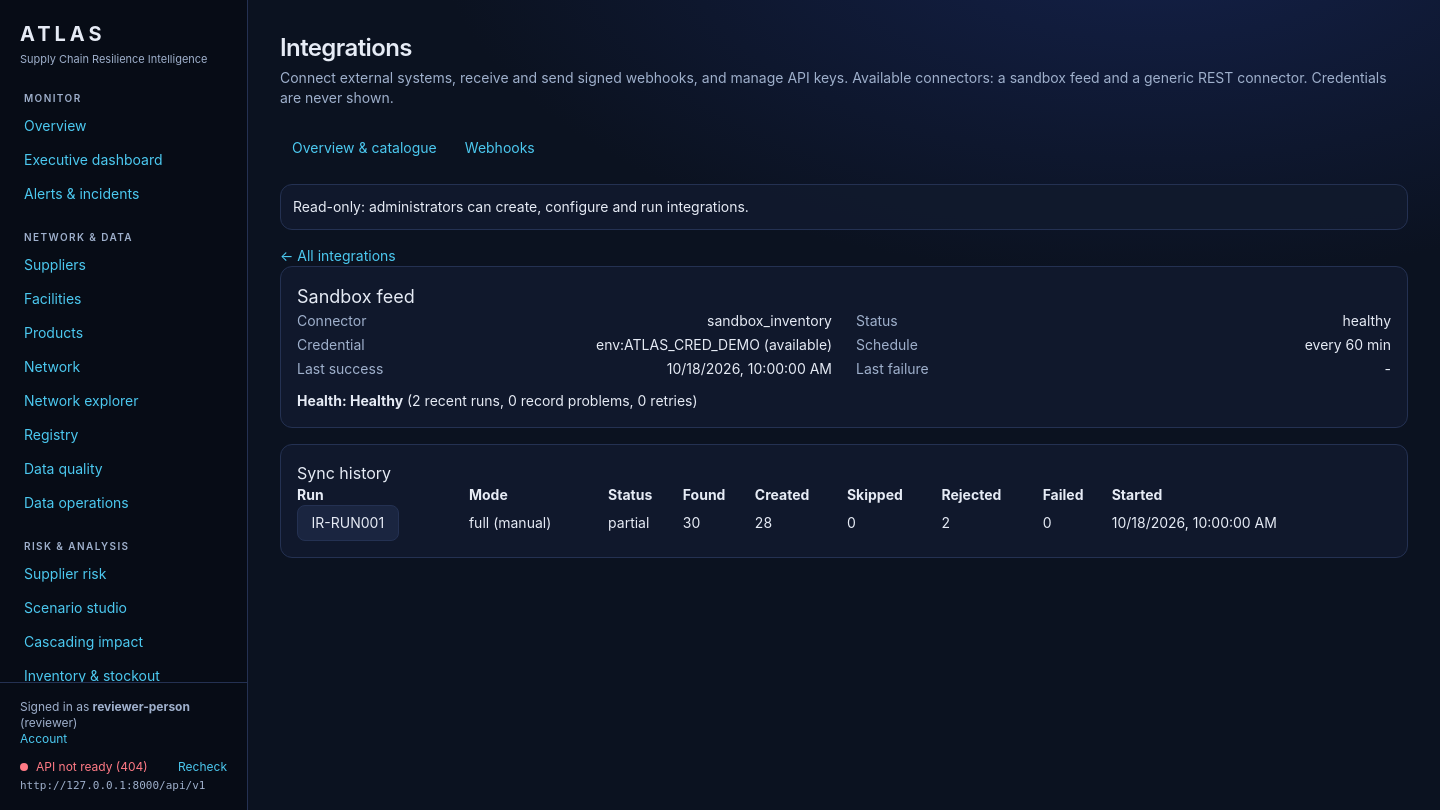
Test case: integration detail and sync history › shows health, history and record-level errors
Expected: the heading "Sandbox feed" is shown, left=297, top=286, right=415, bottom=307
Expected: the element labelled "Health" shows "Healthy", left=350, top=392, right=403, bottom=409
Click the button with aria-label "Show errors for IR-RUN001".
click(348, 523)  # box left=297, top=505, right=399, bottom=541
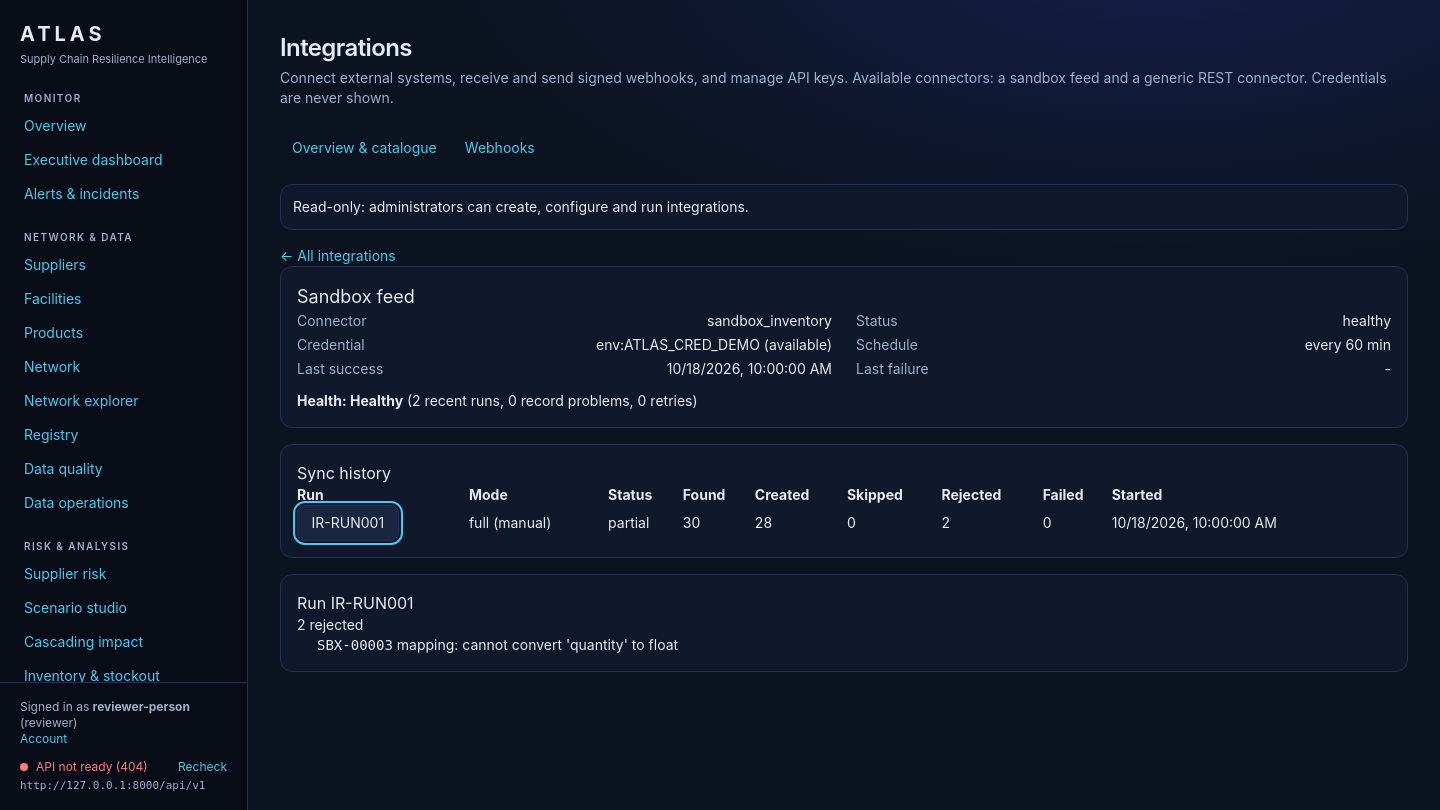
Expected: the list item "SBX-00003 mapping: cannot convert 'quantity' to float" is shown, left=317, top=636, right=678, bottom=653
